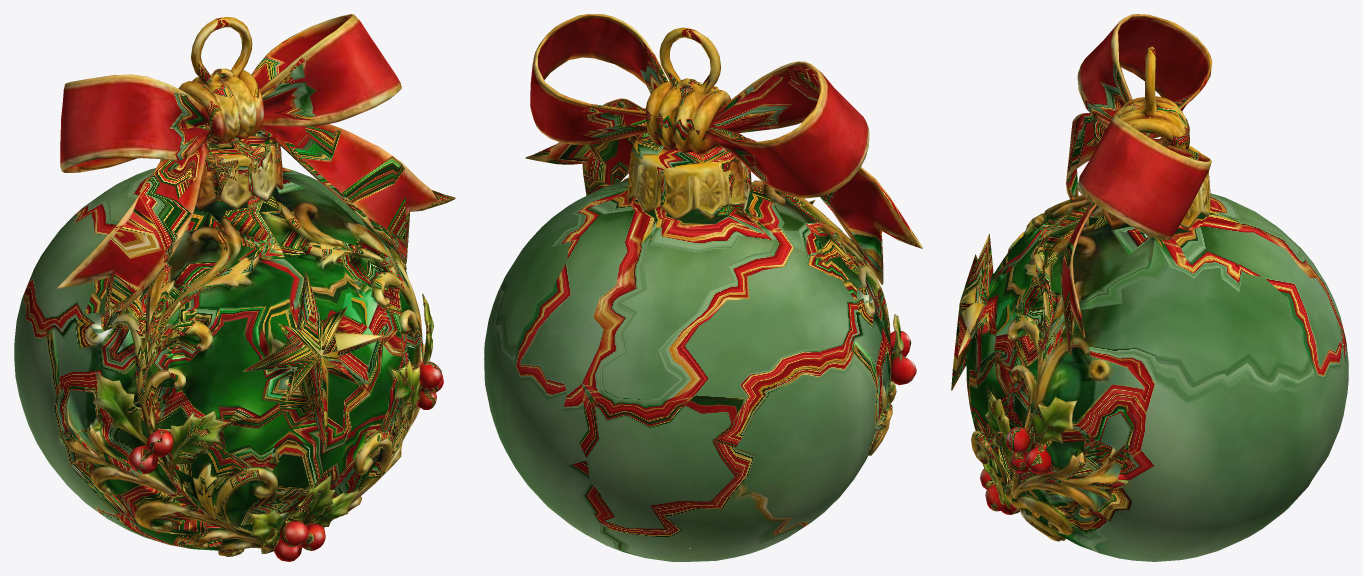
File: ball-green.glb
3 renders of one model, left to right at view 1: azimuth 30°, elevation 25°; view 2: azimuth 150°, elevation 25°; view 3: azimuth 270°, elevation 25°, orthographic. The views are drawn at different scales.
Visible parts, largest first — view 1: tripo_node_90cf758e-24c6-4dcf-94a6-832012f16b7f; view 2: tripo_node_90cf758e-24c6-4dcf-94a6-832012f16b7f; view 3: tripo_node_90cf758e-24c6-4dcf-94a6-832012f16b7f.
Part boxes in pixels (x1,y1,x2,y2): tripo_node_90cf758e-24c6-4dcf-94a6-832012f16b7f: (14,14,455,561); tripo_node_90cf758e-24c6-4dcf-94a6-832012f16b7f: (484,14,922,561); tripo_node_90cf758e-24c6-4dcf-94a6-832012f16b7f: (951,14,1348,561).
Bounding box in the file's own units: 0.7901 × 0.9786 × 0.7135.
Materials: 1 (1 with a texture image).
